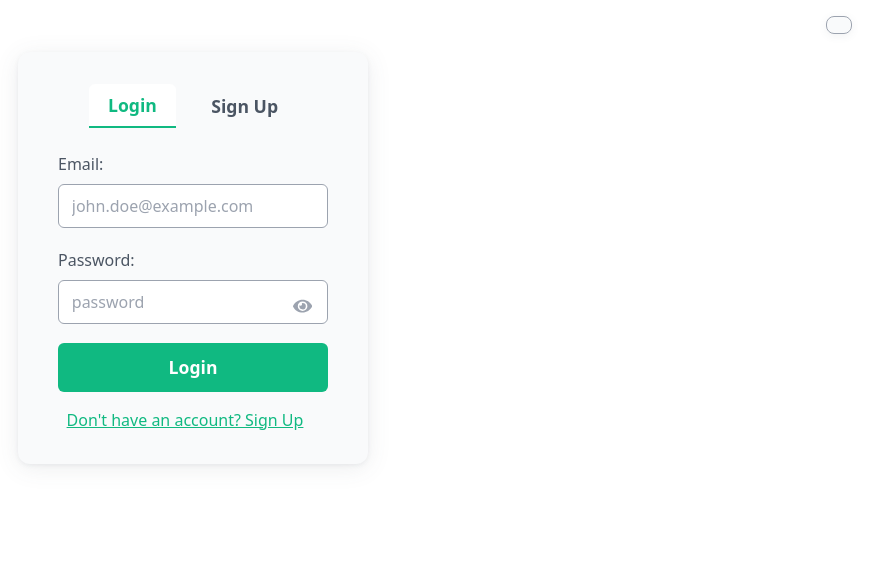
App Component › toggles back to login form
Click the button "Sign Up" at [245, 106], box [192,84,297,128]
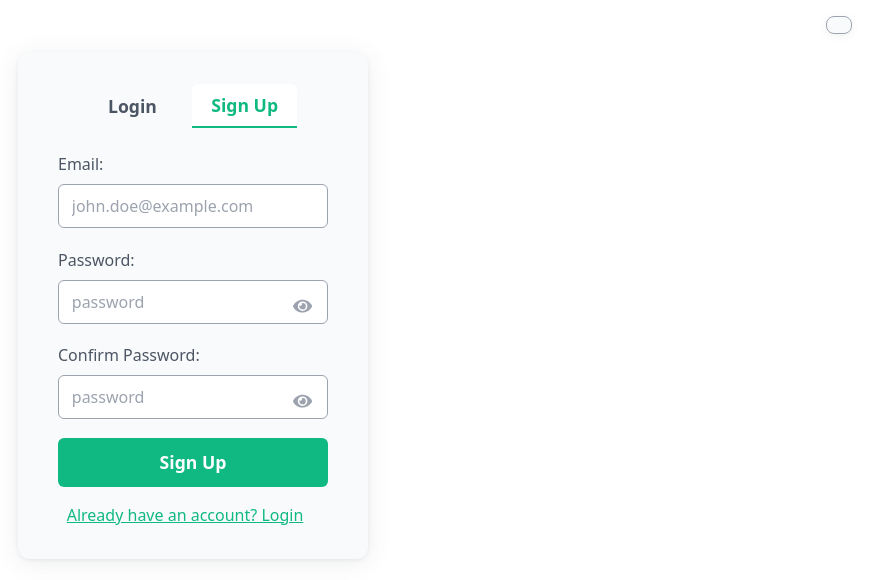
Click the button "Login" at [132, 106], box [89,84,176,128]
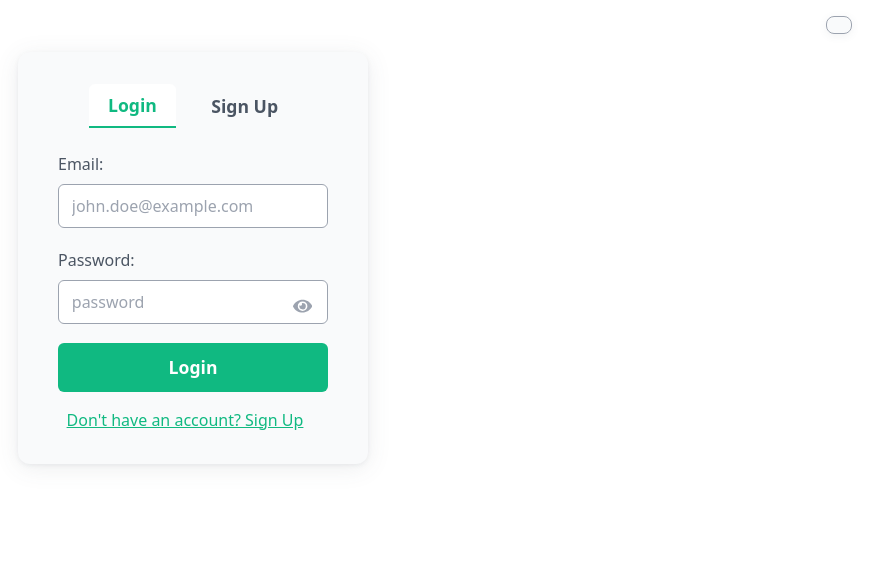
Expected: the field labelled "Email:" is shown, [58,184,328,228]
Expected: the button "Login" below "Password:" is shown, [58,343,328,392]
